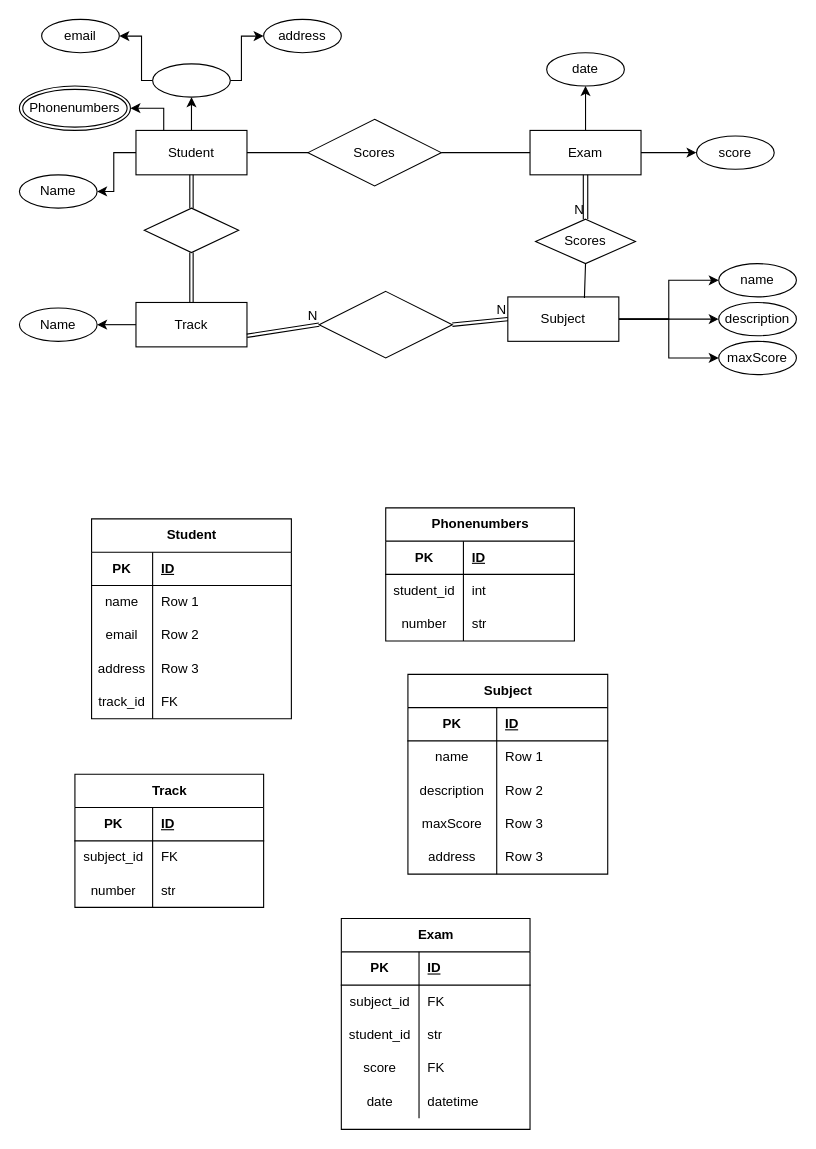
Some shapes in this 816 by 1149 pixel diagram are drawn without their labels. Here are the shapes that lost their labels. From the top down, the centre of each, then its label:
At point (191, 80): "ContactInfo".
At point (191, 230): "enrolled".
At point (385, 324): "has".
